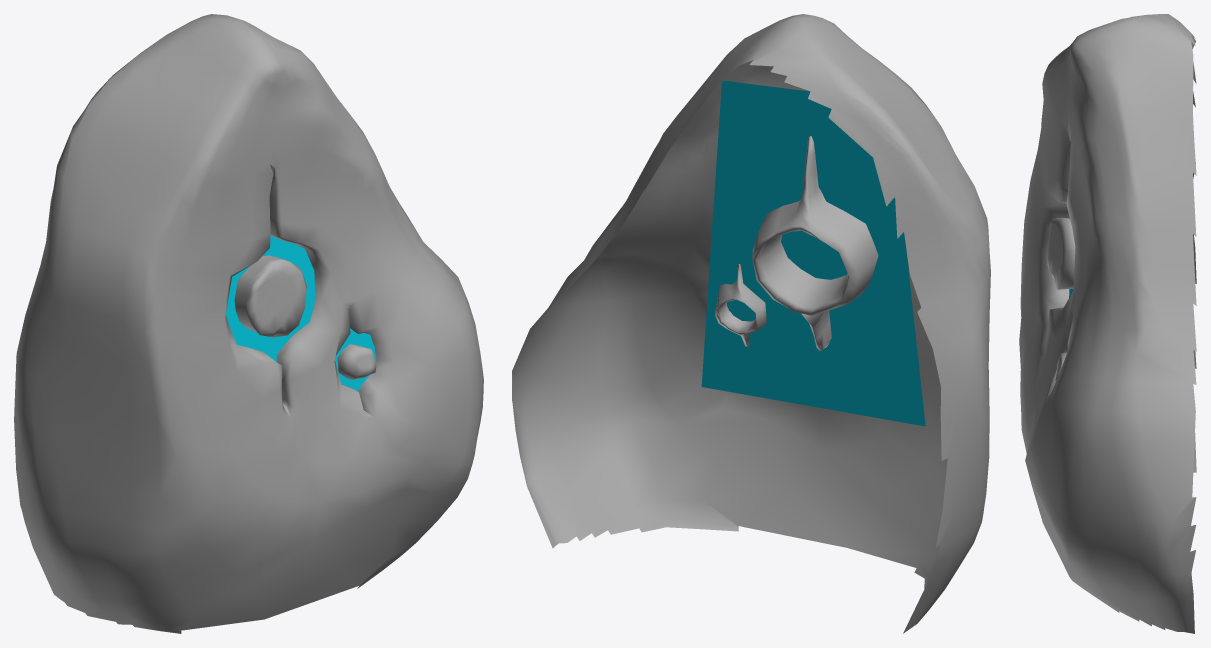
The model's file is mesh_rune.fbx.
3 views of the same model, side by side, from view 1: azimuth 30°, elevation 25°; view 2: azimuth 150°, elevation 25°; view 3: azimuth 270°, elevation 25° (orthographic). The views are drawn at different scales.
Parts seen in each view (by area): view 1: rune2, glow; view 2: rune2, glow; view 3: rune2.
Boxes of the visible parts, left/top/right/bottom form: rune2: left=14, top=14, right=483, bottom=633; glow: left=226, top=235, right=376, bottom=391; rune2: left=512, top=14, right=990, bottom=633; glow: left=701, top=80, right=925, bottom=426; rune2: left=1019, top=14, right=1196, bottom=633.
Bounding box in the file's own units: 396 × 460 × 142.
